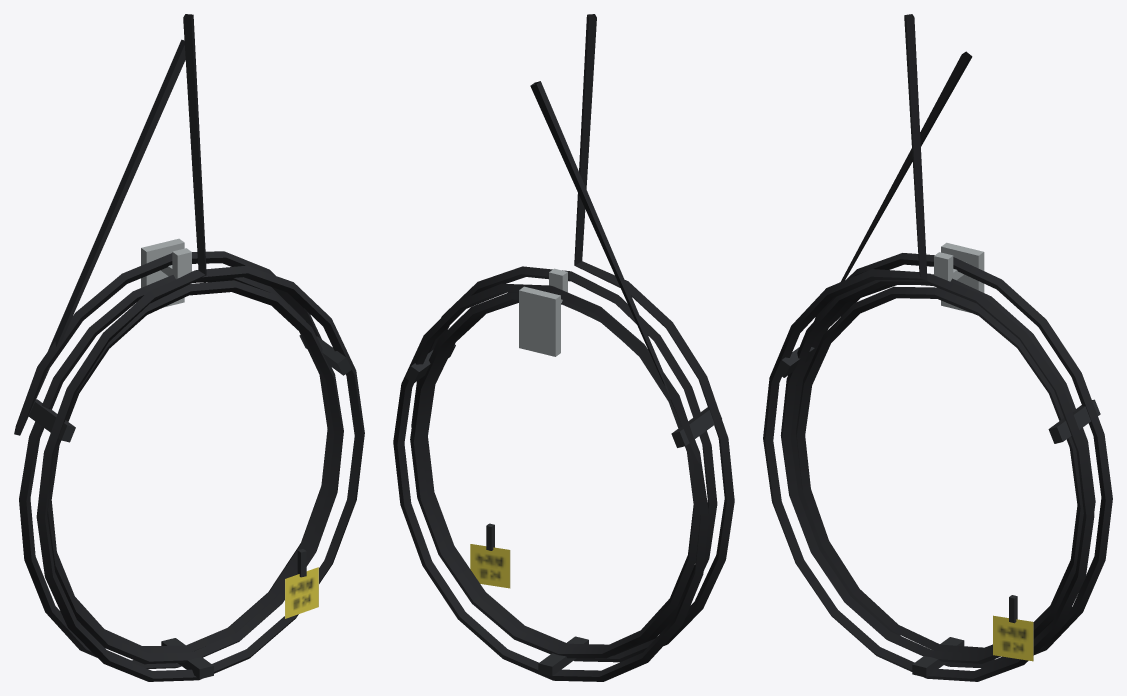
Rendered from SC_Util_Wire_Coil.gltf.
The picture shows the model from 3 angles, left to right: view 1: azimuth 30°, elevation 25°; view 2: azimuth 150°, elevation 25°; view 3: azimuth 330°, elevation 25°; orthographic projection. The views are drawn at different scales.
Visible parts, largest first — view 1: SC_Util_Wire_Coil; view 2: SC_Util_Wire_Coil; view 3: SC_Util_Wire_Coil.
Boxes of the visible parts, bbox=[...] form: SC_Util_Wire_Coil: bbox=[14, 14, 364, 681]; SC_Util_Wire_Coil: bbox=[393, 14, 734, 681]; SC_Util_Wire_Coil: bbox=[763, 14, 1112, 681].
Size of the model in its own units: 0.6972 by 1.35 by 0.1769.
Materials: 2 (2 with a texture image).
